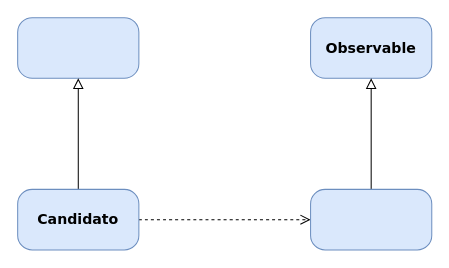
This 449x268 diagram has some shape labels left out. The centre of each missing label's shape, as x and y in pixels:
"Observer" goes at (x=78, y=47).
"VagaEmprego" goes at (x=371, y=219).
